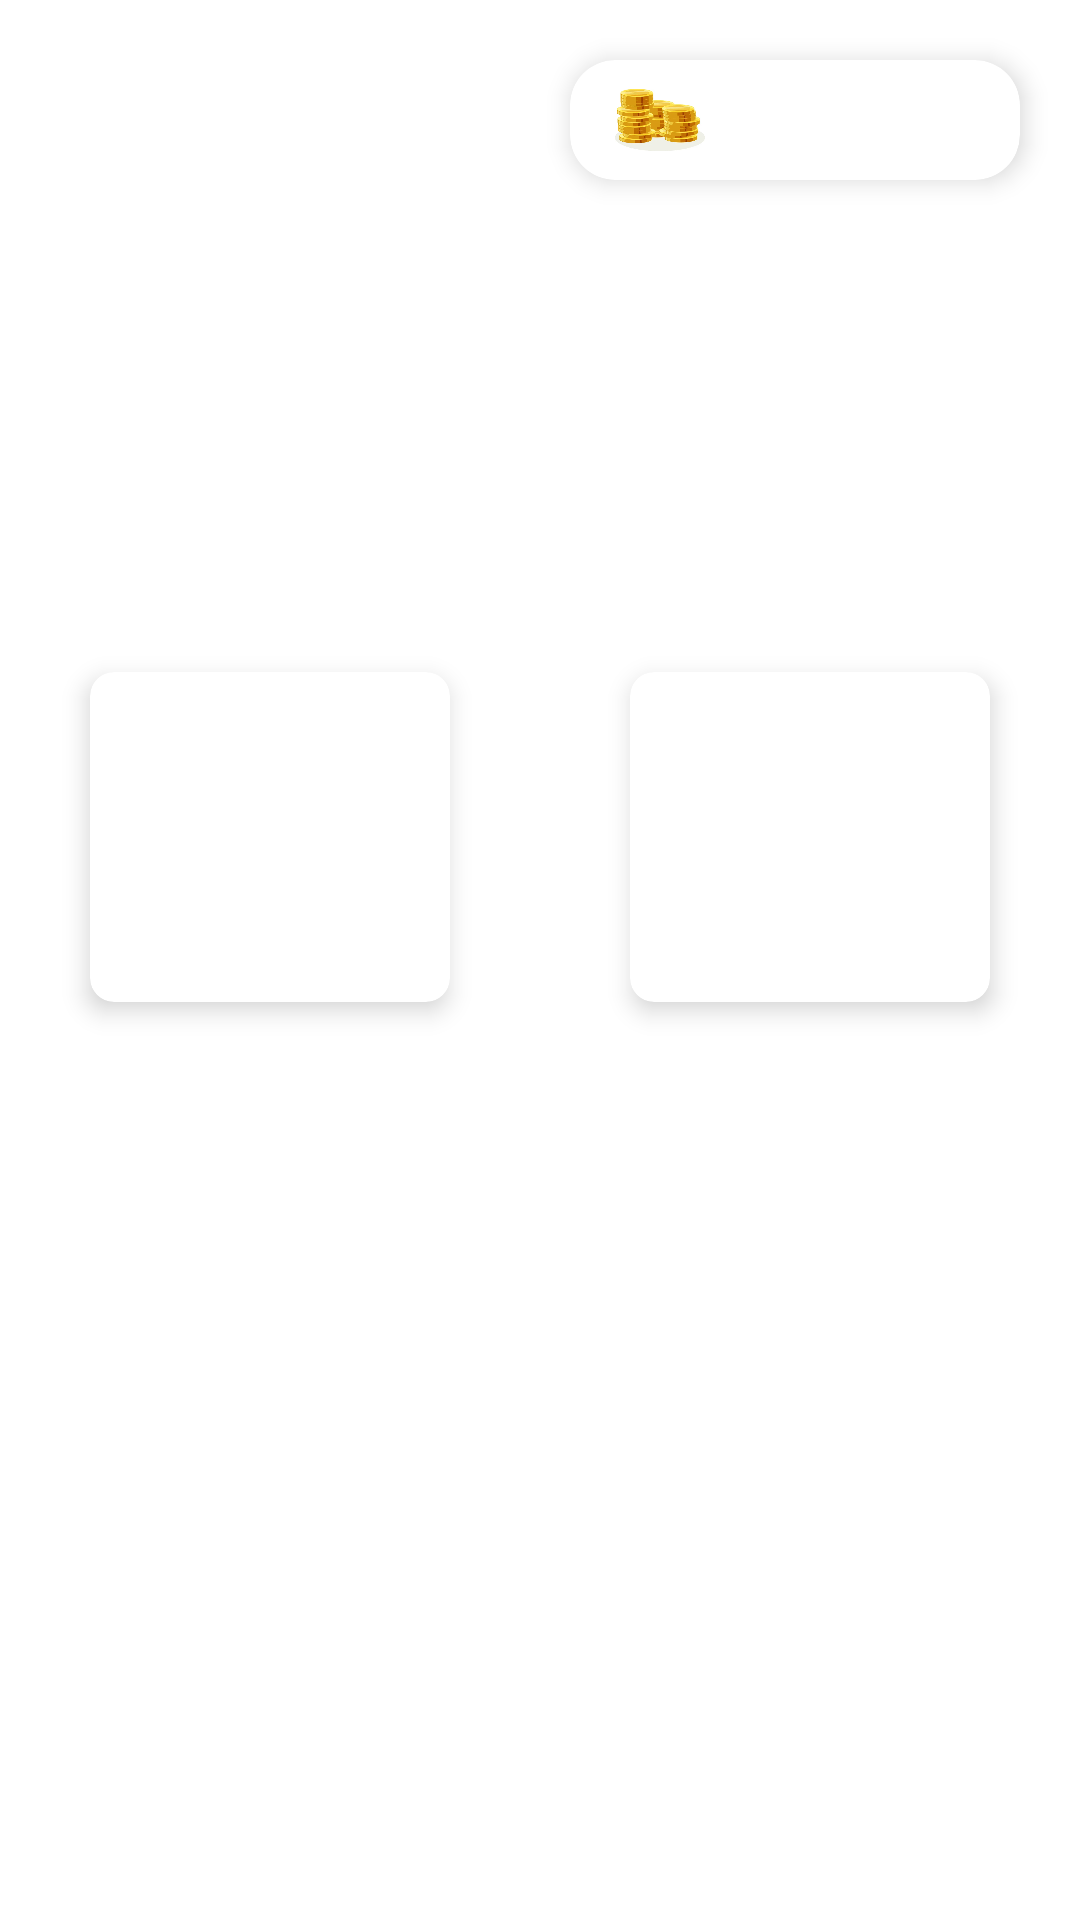

Icons on this 1080×1920 Android screen, each with the point to tap as (x=x, y=y):
money: (x=660, y=120)
